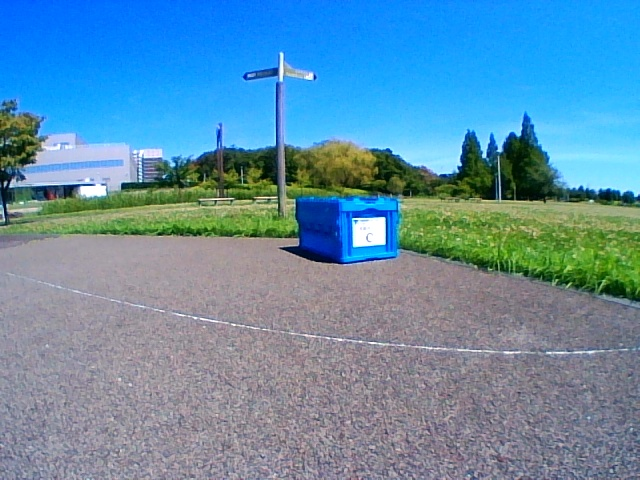blue_box: (299, 197, 397, 257)
tag: (352, 219, 385, 245)
